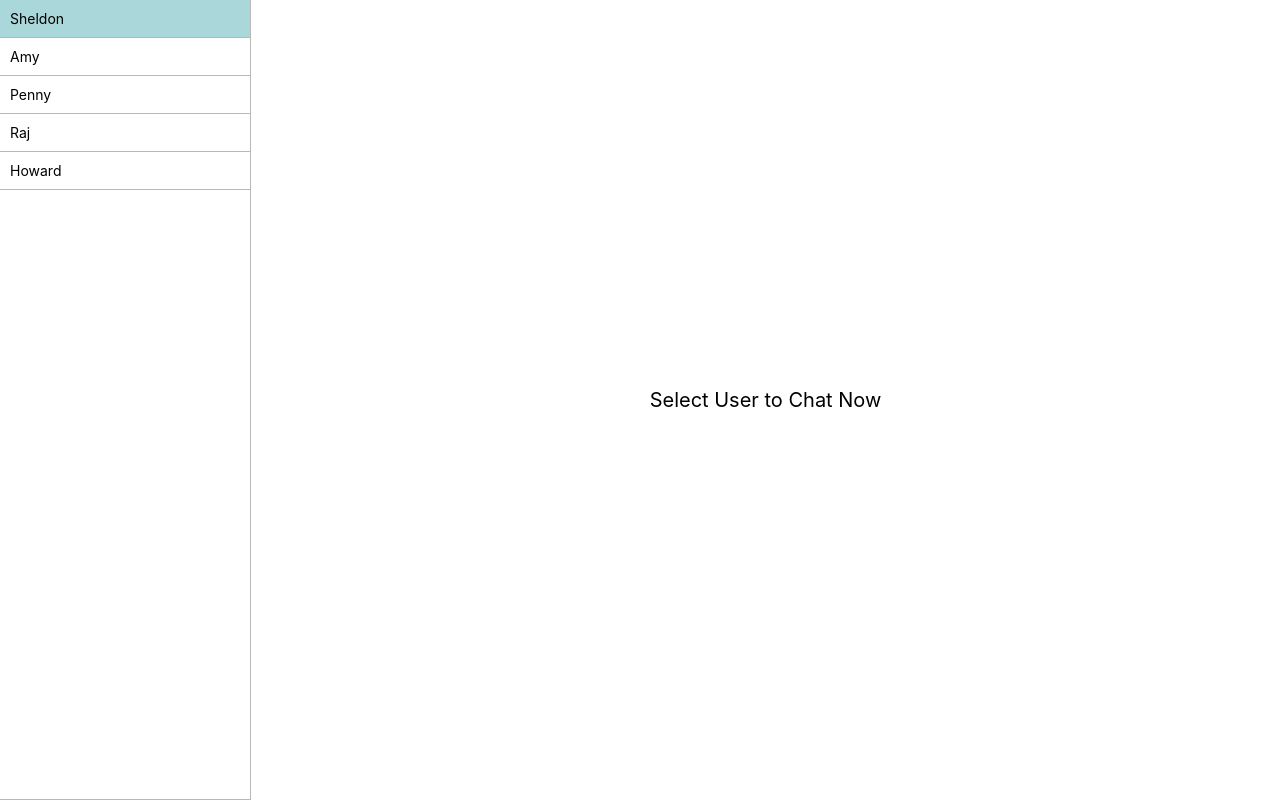
it: App Component › sends a message and displays it in the chat window
The width and height of the screenshot is (1280, 800).
Step 1. Click the text "Sheldon" → (125, 19), box [0,0,250,38]
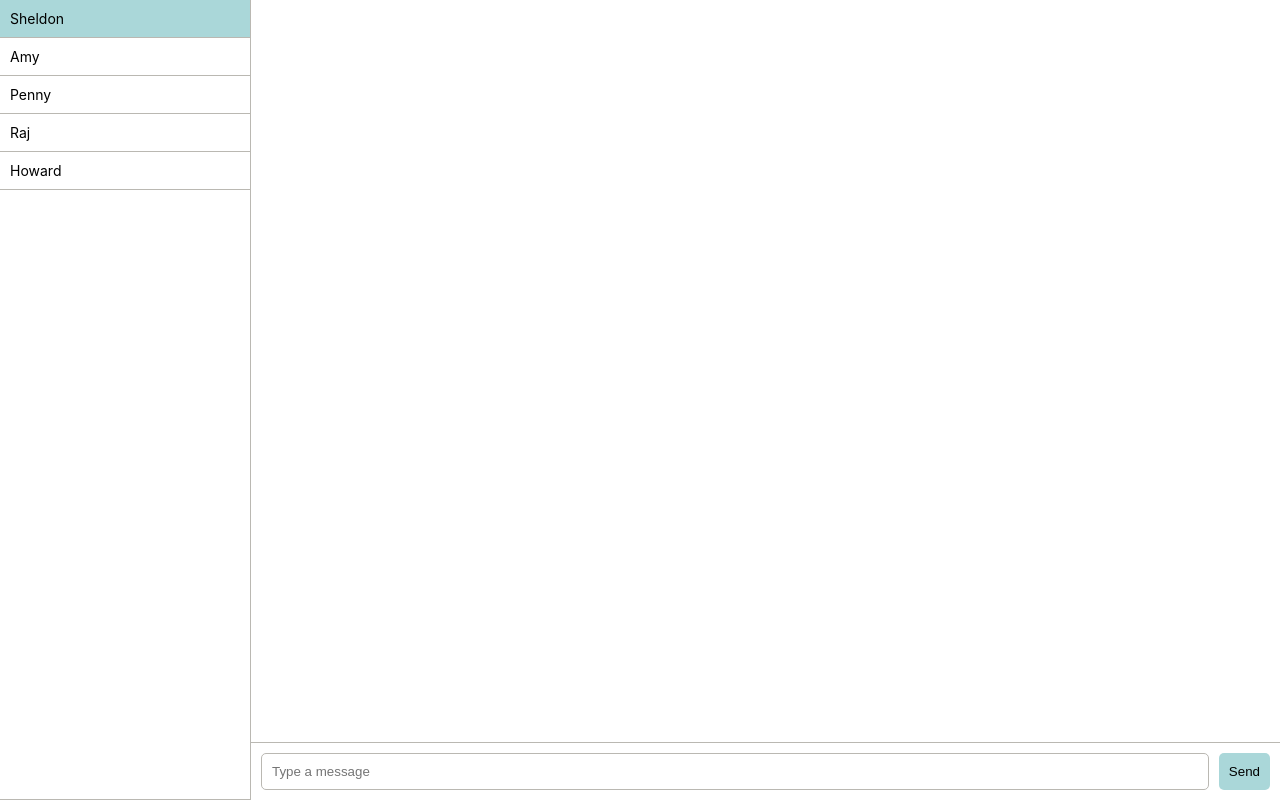
Step 2. Type "Hello Sheldon" into the field with placeholder "Type a message" → (735, 772), box [261,753,1209,790]
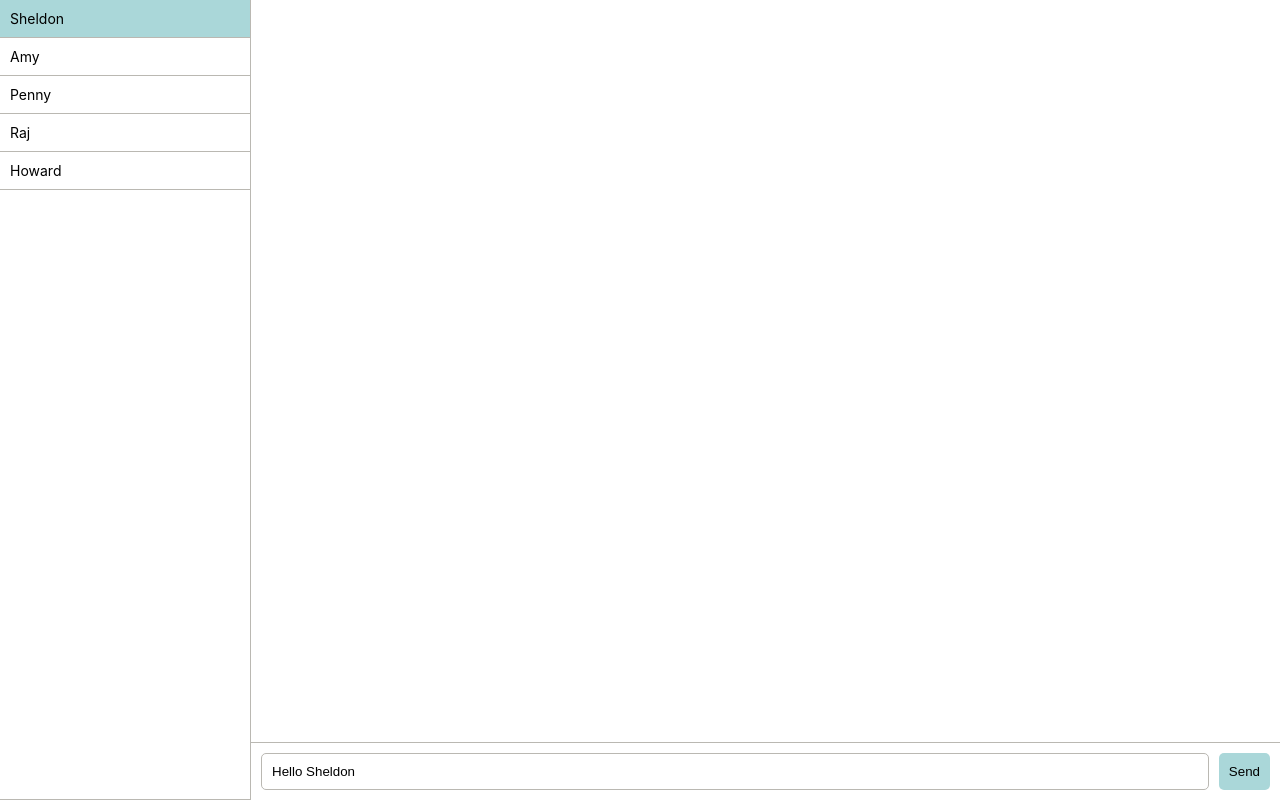
Step 3. Click the button "Send" → (1244, 772), box [1219,753,1270,790]
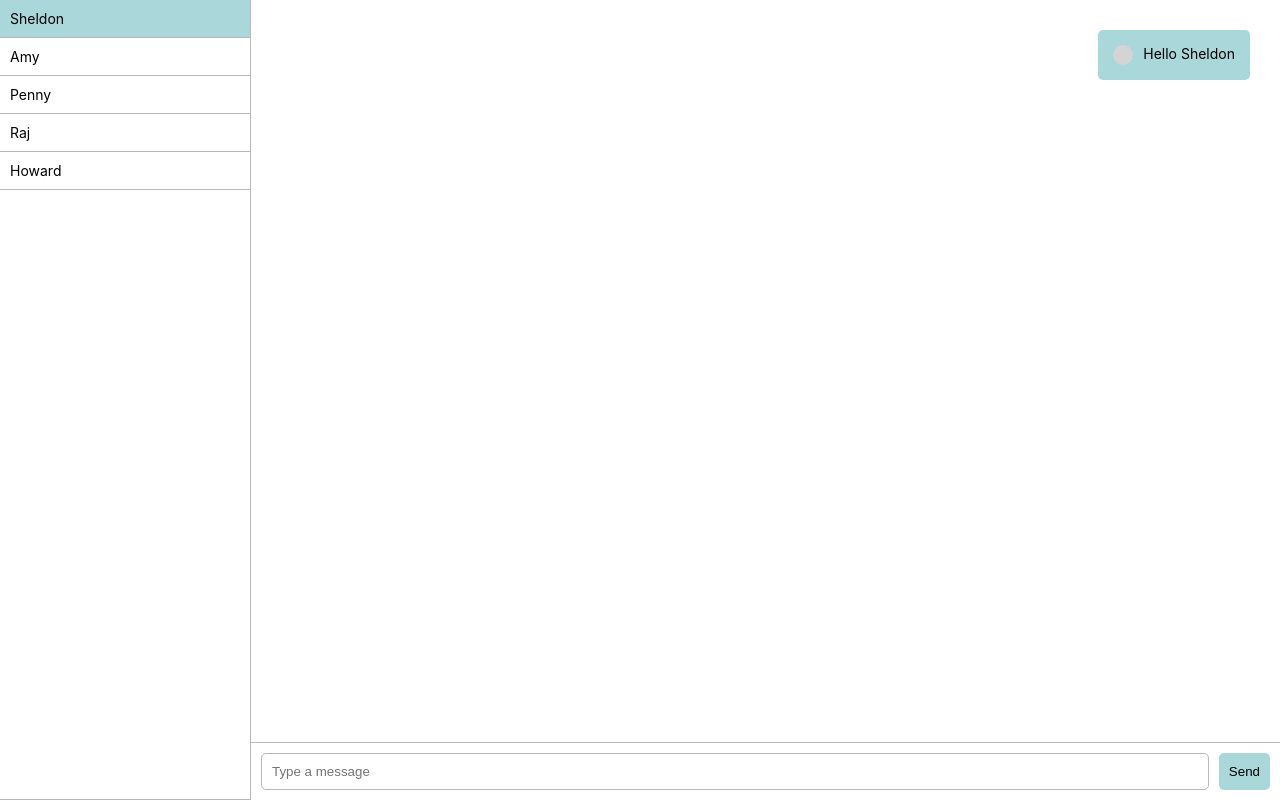
Result: the text "Hello Sheldon" is shown at [1143,45,1235,65]
